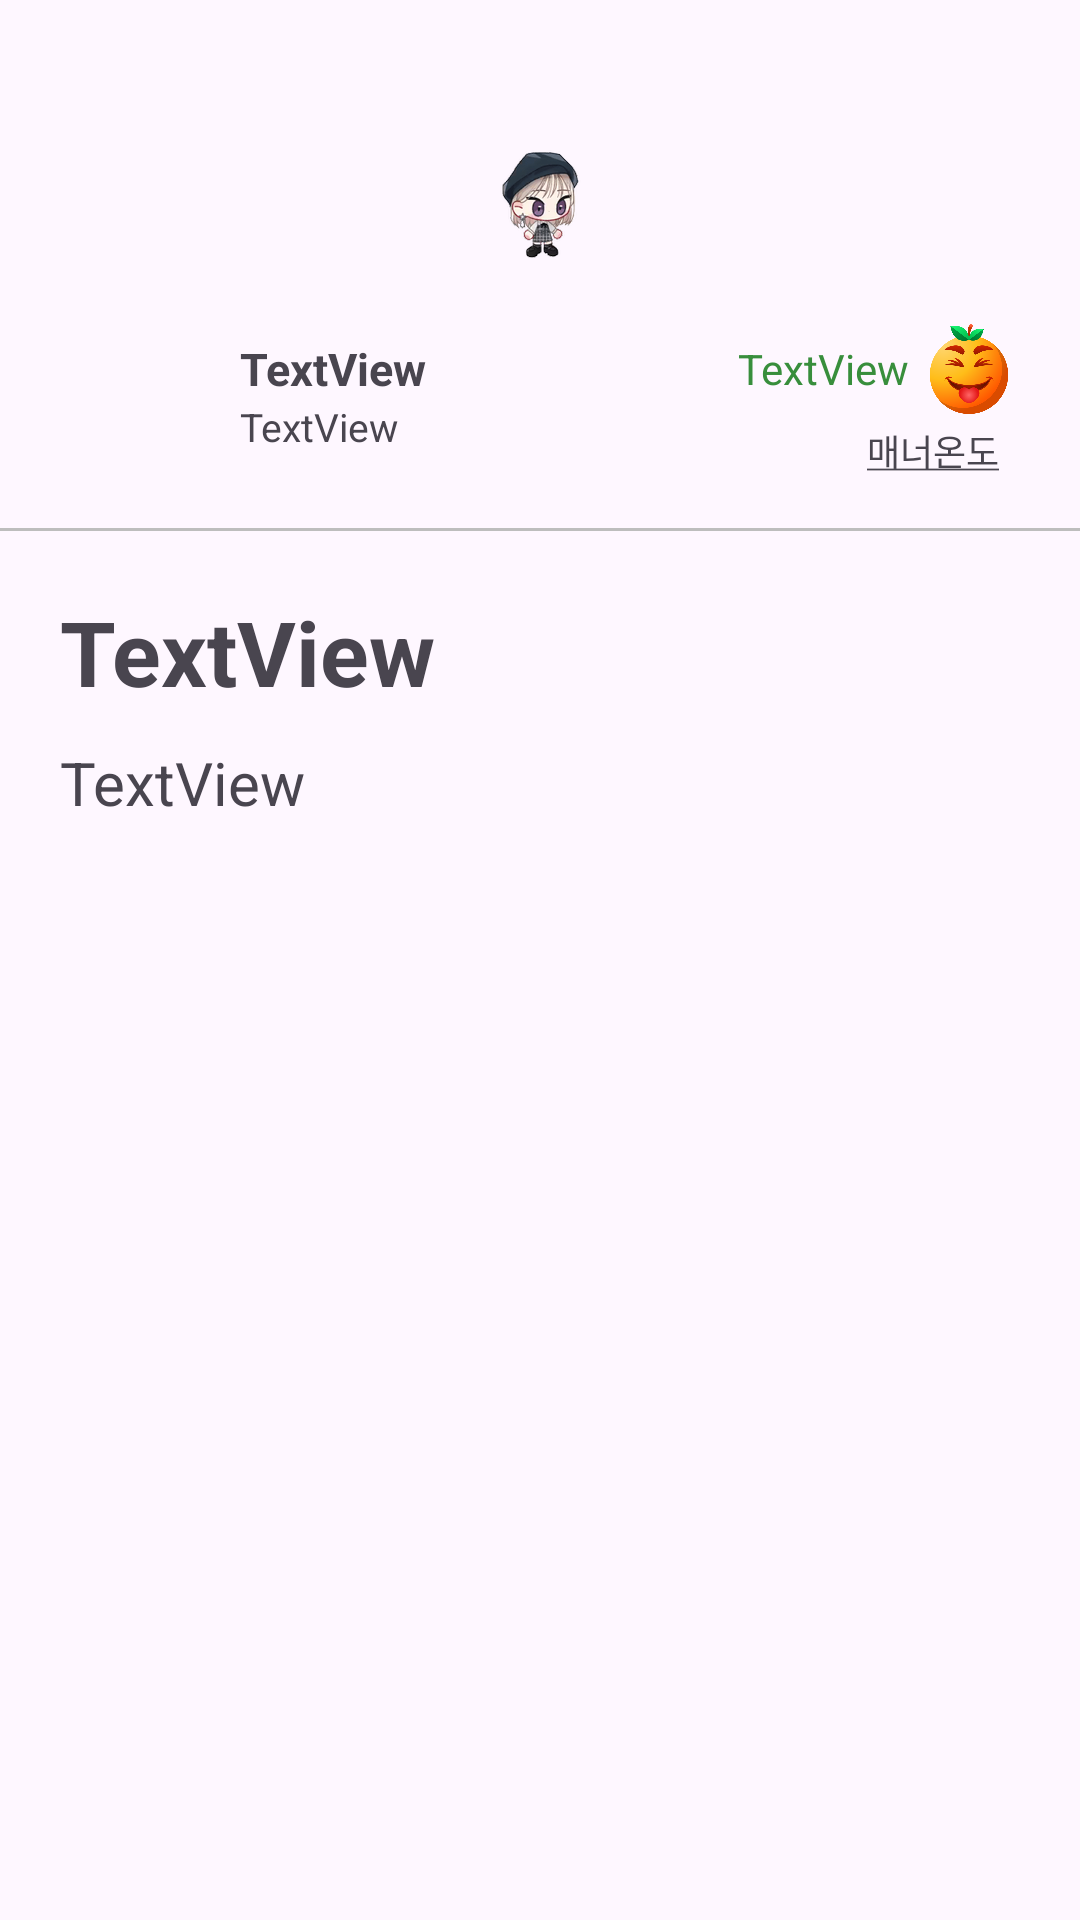

Named icons in this screenshot (1080 × 1920) and their bounding boxes, (x1, y1, x2, y2):
character: (502, 152, 579, 258)
happy face: (930, 324, 1008, 414)
